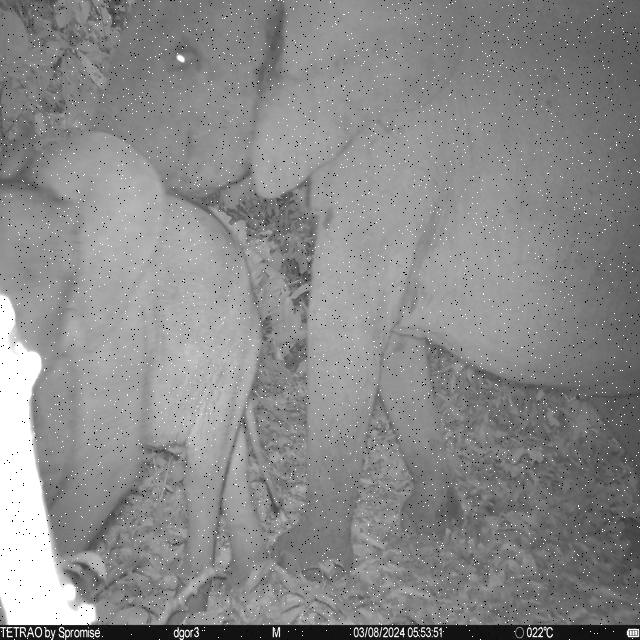calf: (0, 132, 283, 612)
ear: (250, 2, 470, 200), (34, 132, 166, 354)
elephant: (92, 0, 640, 582)
